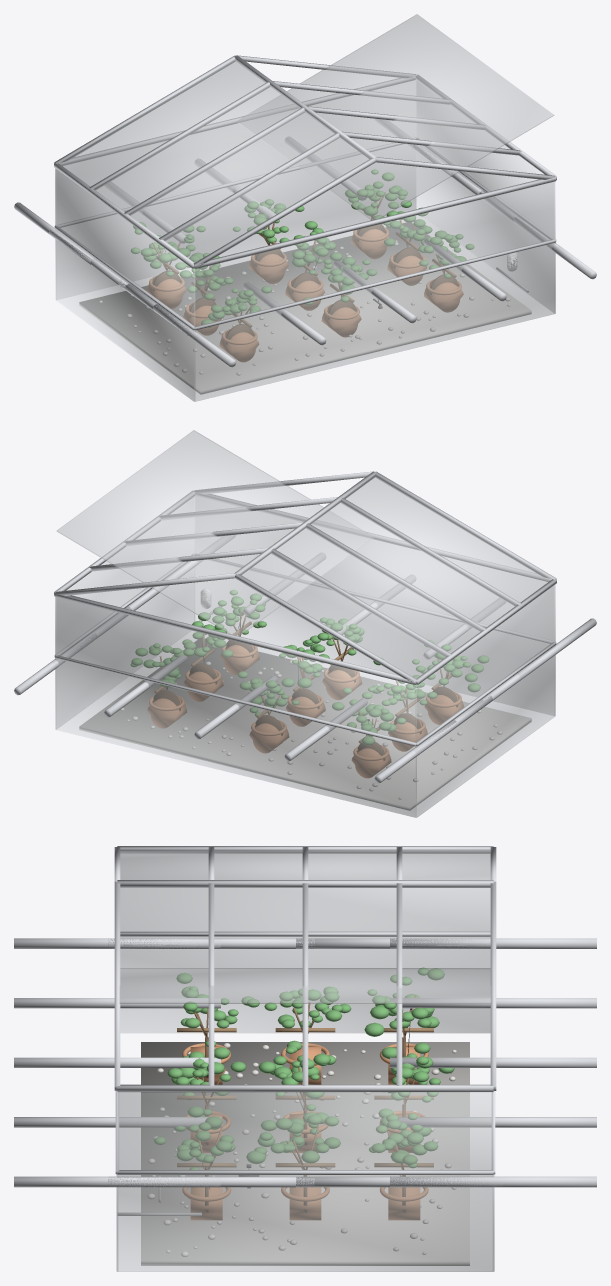
Rendered from invernadero.glb.
3 views of the same model, one above another, from view 1: azimuth 30°, elevation 25°; view 2: azimuth 150°, elevation 25°; view 3: azimuth 270°, elevation 25° (orthographic). The views are drawn at different scales.
Parts seen in each view (by area): view 1: obj_0069, obj_0077, obj_0067, obj_0075, obj_0079, obj_0071, obj_0073, obj_0035, obj_0033, obj_0061, obj_0053, obj_0045 (+32 smaller); view 2: obj_0067, obj_0077, obj_0075, obj_0069, obj_0079, obj_0071, obj_0073, obj_0033, obj_0035, obj_0059, obj_0037, obj_0045 (+34 smaller); view 3: obj_0073, obj_0071, obj_0079, obj_0077, obj_0075, obj_0031, obj_0057, obj_0029, obj_0009, obj_0019, obj_0011, obj_0001 (+20 smaller).
Part boxes in pixels (x1,y1,x2,y2): obj_0069: [194, 181, 555, 401]; obj_0077: [238, 14, 554, 219]; obj_0067: [55, 80, 416, 299]; obj_0075: [60, 59, 370, 262]; obj_0079: [79, 222, 531, 394]; obj_0071: [55, 168, 194, 401]; obj_0073: [416, 81, 555, 313]; obj_0035: [194, 177, 556, 268]; obj_0033: [59, 76, 415, 165]; obj_0061: [194, 239, 555, 330]; obj_0053: [193, 158, 376, 268]; obj_0045: [124, 107, 304, 215]; obj_0067: [55, 597, 416, 817]; obj_0077: [56, 430, 372, 635]; obj_0075: [240, 475, 550, 678]; obj_0069: [194, 496, 555, 715]; obj_0079: [79, 638, 531, 810]; obj_0071: [416, 584, 555, 817]; obj_0073: [55, 497, 194, 729]; obj_0033: [54, 593, 416, 684]; obj_0035: [195, 492, 551, 581]; obj_0059: [55, 655, 416, 746]; obj_0037: [234, 574, 417, 684]; obj_0045: [306, 523, 486, 631]; obj_0073: [117, 1092, 493, 1271]; obj_0071: [120, 854, 490, 1033]; obj_0079: [141, 1042, 469, 1265]; obj_0077: [119, 968, 491, 1003]; obj_0075: [120, 849, 490, 879]; obj_0031: [117, 1084, 493, 1091]; obj_0057: [117, 880, 493, 887]; obj_0029: [117, 846, 493, 853]; obj_0009: [390, 1176, 596, 1187]; obj_0019: [14, 1176, 220, 1187]; obj_0011: [14, 938, 220, 948]; obj_0001: [390, 938, 596, 948].
Size of the model in its own units: 6.12 by 3.23 by 6.2.
